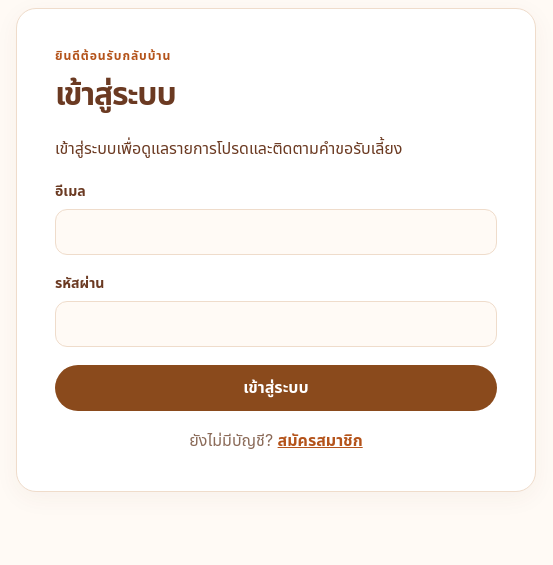
Scenario: LoginPage › validates email and minimum password length in Thai without sending a request
The image size is (553, 565).
In the field labelled "อีเมล": x=276, y=232 [55,209,497,255], type "not-an-email"
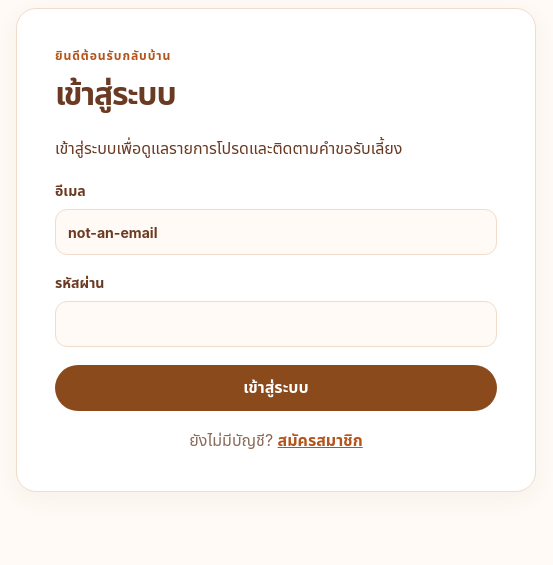
In the password field labelled "รหัสผ่าน": x=276, y=324 [55,301,497,347], type "short"
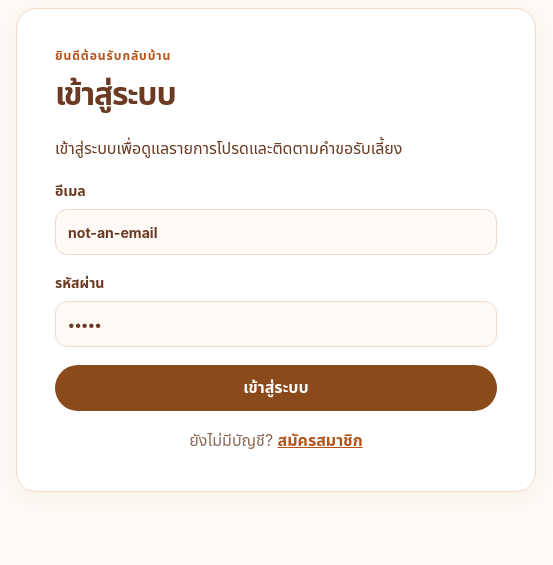
Click the button "เข้าสู่ระบบ": x=276, y=388 [55,365,497,411]
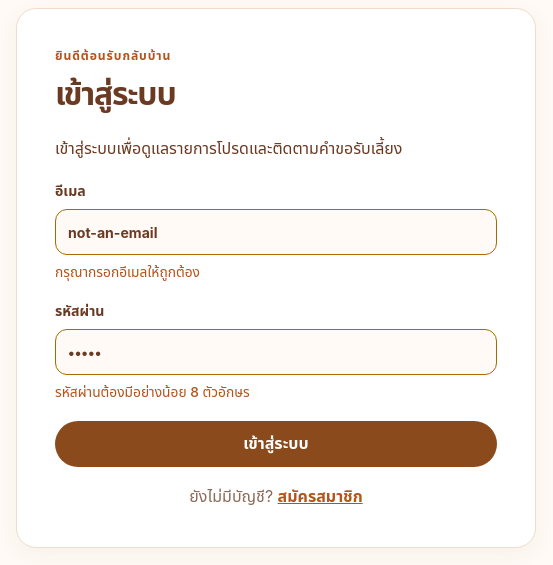
Check: the text "กรุณากรอกอีเมลให้ถูกต้อง" is shown, box [55,264,200,280]
Check: the text "รหัสผ่านต้องมีอย่างน้อย 8 ตัวอักษร" is shown, box [55,384,250,400]
